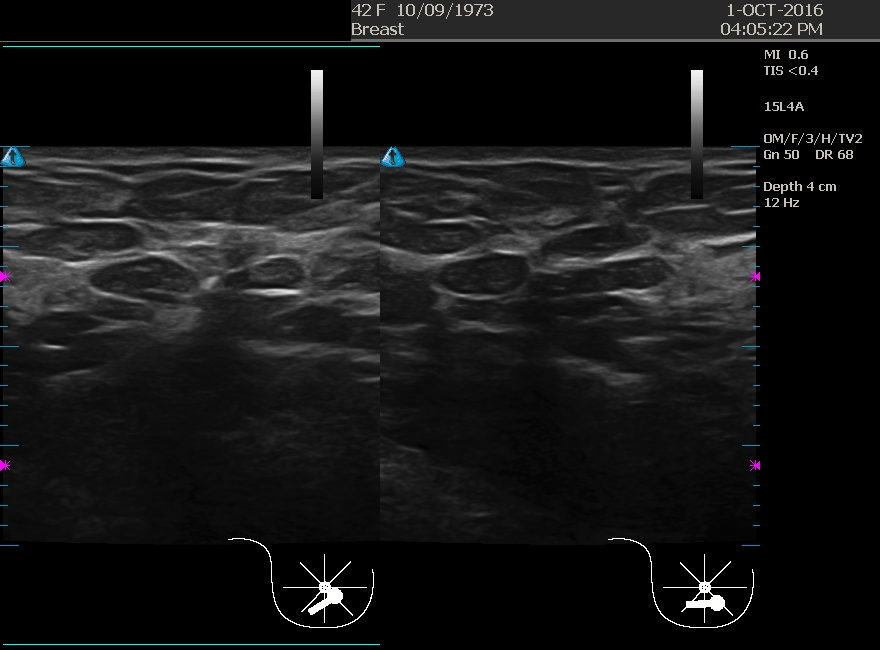Benign: (44, 178, 244, 378), (404, 178, 604, 378)
